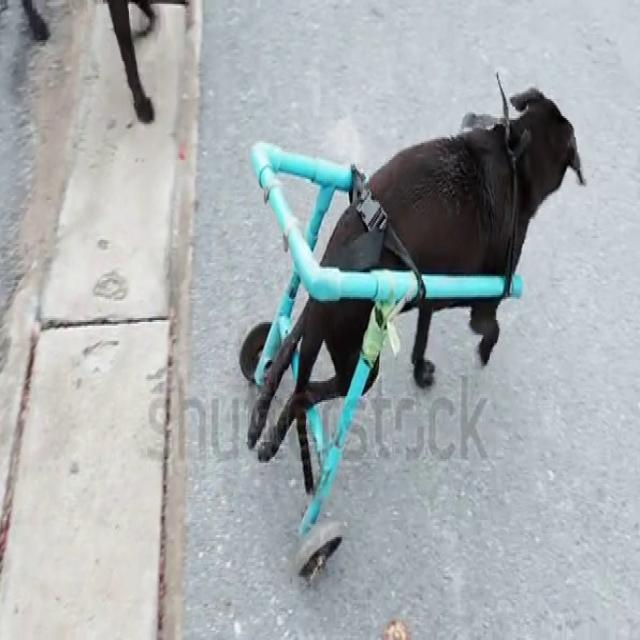injured-animals: (235, 68, 588, 584)
